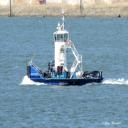tugboat: (27, 23, 106, 88)
